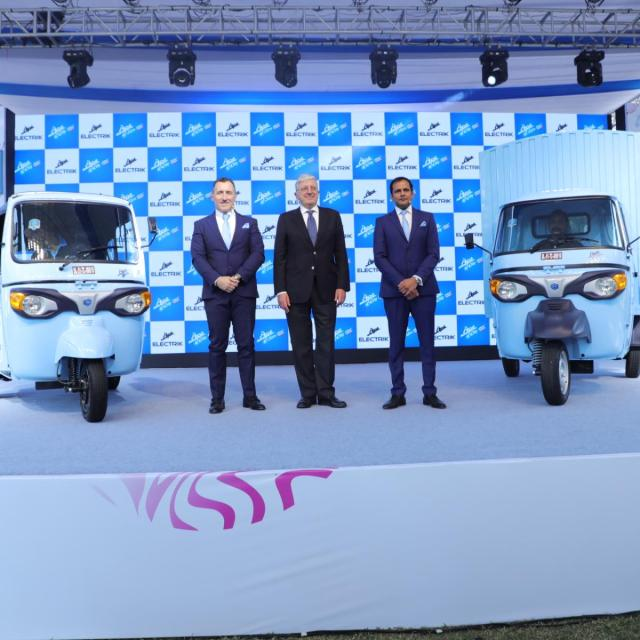autorickshaw: (480, 131, 640, 404), (0, 192, 151, 422)
